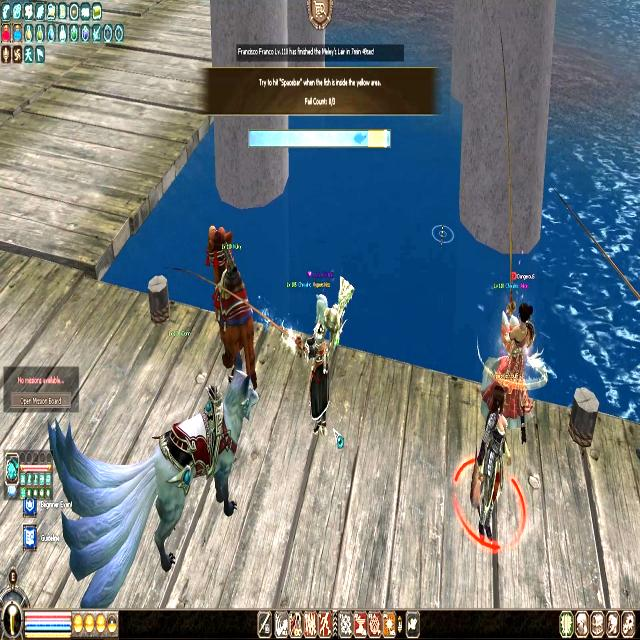fishes: (353, 132, 367, 145)
